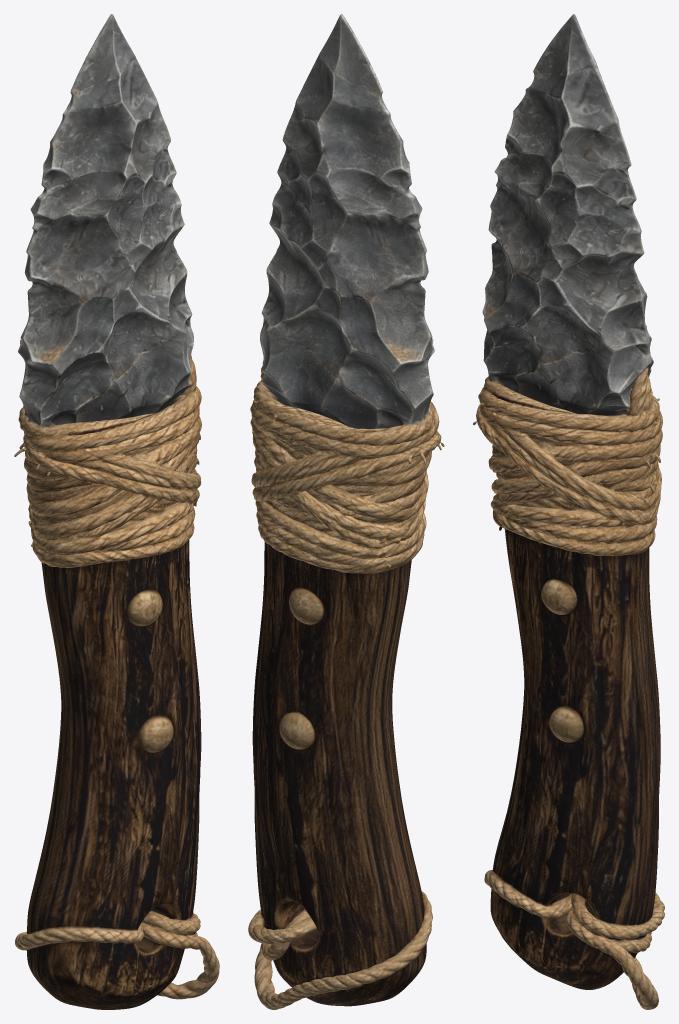
File: Meshy_AI_Tool_4_Stone_Knife_20261107_image-to-3d-texture.fbx
The picture shows the model from 3 angles, left to right: view 1: azimuth 30°, elevation 25°; view 2: azimuth 150°, elevation 25°; view 3: azimuth 330°, elevation 25°; orthographic projection. The views are drawn at different scales.
Visible parts, largest first — view 1: Mesh_0; view 2: Mesh_0; view 3: Mesh_0.
Part boxes in pixels (x1,y1,x2,y2): Mesh_0: (14, 14, 219, 1009); Mesh_0: (248, 14, 444, 1009); Mesh_0: (473, 14, 664, 1009).
Size of the model in its own units: 36.65 by 190 by 24.95.
Materials: 1 (1 with a texture image).
